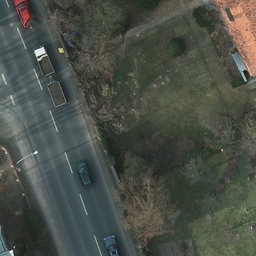car: (31, 43, 52, 78), (15, 1, 39, 30), (75, 159, 92, 192), (102, 233, 118, 256)
